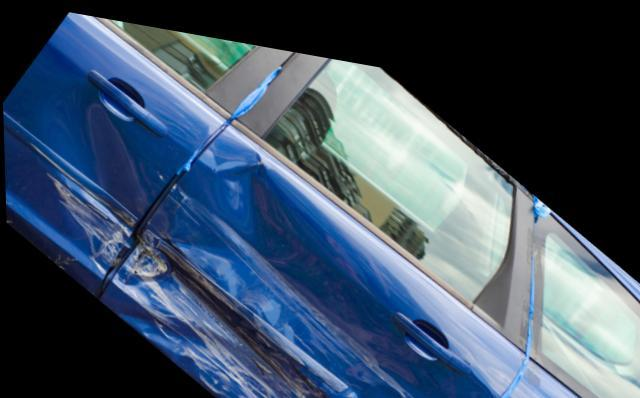dent: (105, 127, 487, 398), (41, 88, 147, 271)
